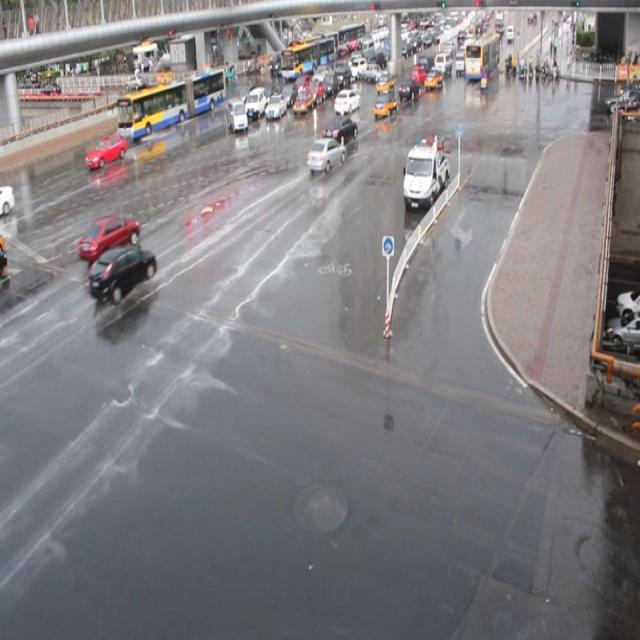bus: (402, 139, 450, 208)
car: (89, 244, 157, 304), (78, 214, 140, 260), (85, 133, 126, 168), (306, 137, 345, 172), (322, 114, 357, 146), (372, 90, 398, 117), (333, 88, 360, 112), (292, 89, 313, 115), (264, 77, 286, 101), (398, 77, 420, 100), (237, 84, 259, 107), (266, 94, 287, 118), (304, 79, 324, 104), (279, 81, 299, 105), (374, 71, 395, 93), (1, 183, 15, 216), (291, 73, 311, 95)
truck: (226, 96, 247, 132), (245, 86, 267, 118)
van: (116, 68, 225, 138)
